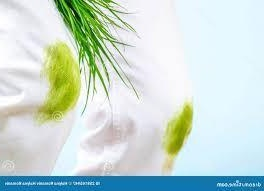earth: (44, 48, 78, 106), (171, 112, 191, 147)
